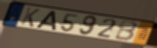2: (95, 19, 117, 39)
5: (60, 13, 80, 33)
9: (79, 15, 98, 36)
A: (34, 10, 56, 31)
B: (113, 20, 139, 43)
K: (19, 7, 41, 29)
